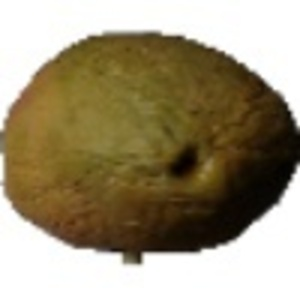mamão: (9, 25, 292, 251)
